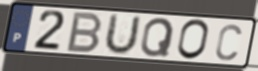2: (31, 8, 67, 52)
B: (64, 11, 105, 55)
C: (214, 22, 244, 62)
O: (175, 18, 211, 62)
Q: (139, 16, 176, 58)
U: (101, 12, 143, 56)
